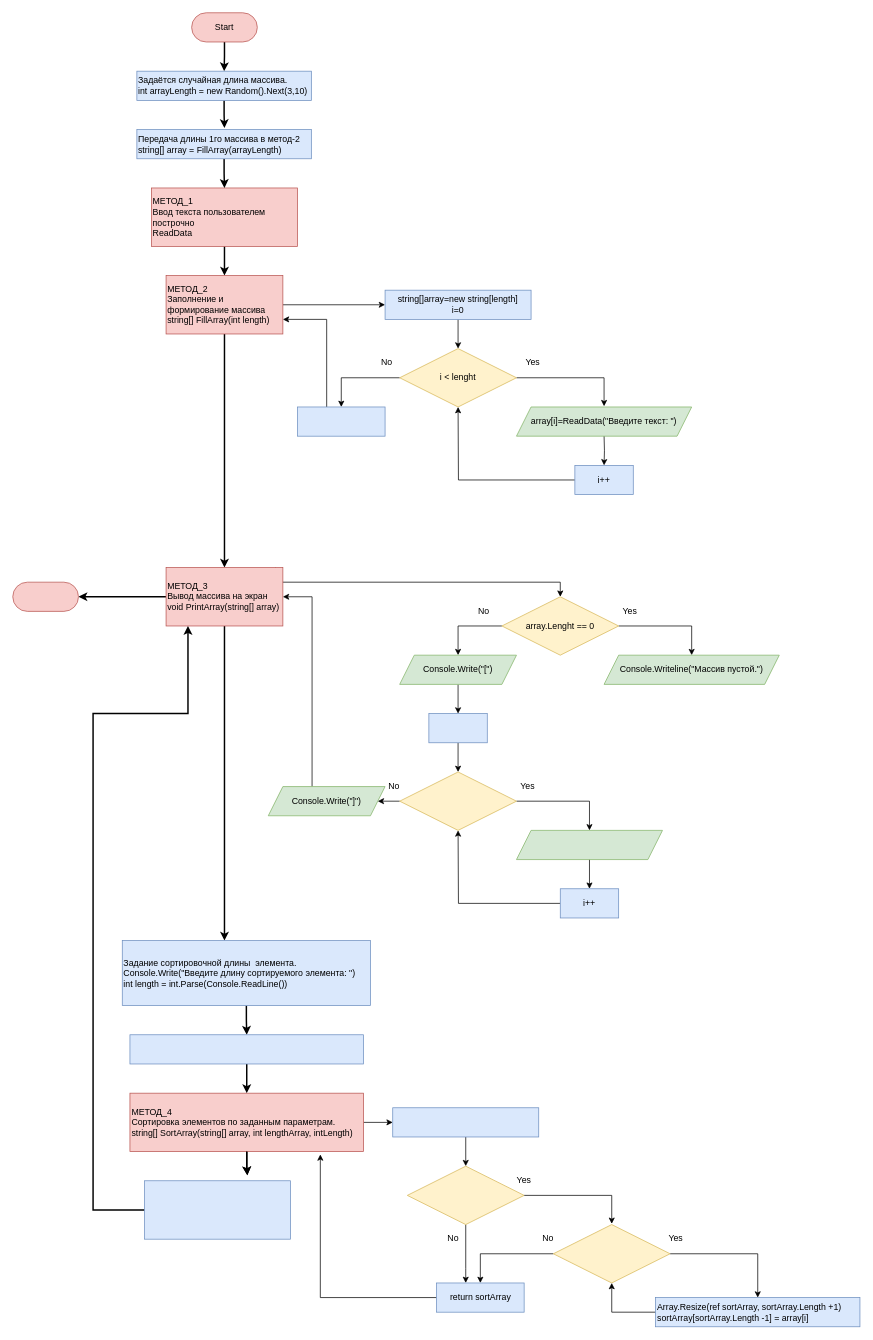
Some shapes in this 873 by 1340 pixel diagram are drawn without their labels. The box of each missing label's shape, as (x1, y1, x2, y2) in pixels:
array[i].Length <= lenght: (553, 1224, 670, 1283)
Console.Write(array[i] + ", "): (516, 830, 662, 860)
End: (12, 581, 78, 611)
i < array.Lenght: (399, 771, 516, 830)
i < lenghtArray: (407, 1165, 524, 1225)
i=0: (428, 713, 487, 743)
return array: (297, 406, 385, 436)
string[] sortArray = new string[0] i=0: (392, 1107, 539, 1137)
Вывод массива на экран в МЕТОД_3 PrintArray(sortArray): (144, 1180, 291, 1239)
Вызов МЕТОД_4 string[] sortArray = SortArray(array,arrayLength, length): (129, 1034, 364, 1064)
